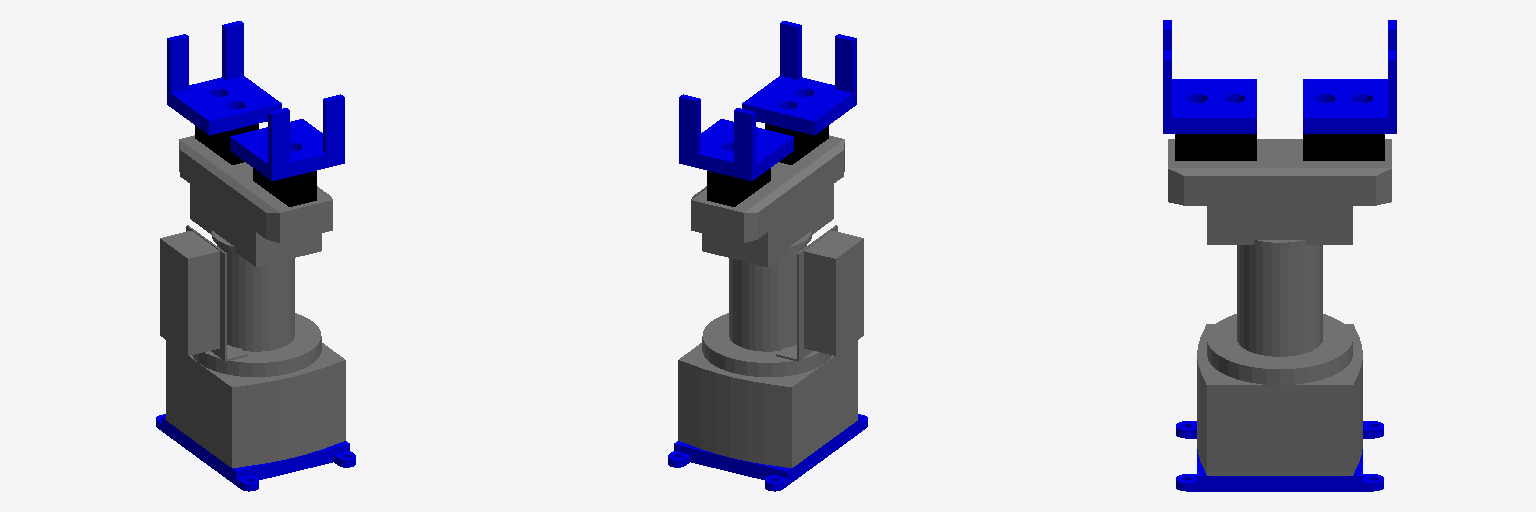
robot.urdf — egn_160:
<?xml version="1.0"?>
<robot name="egn_160">

 <!-- ADAPTER LINK -->
 <link name="adapter_link">
      <inertial>
          <mass value="1.2" />
          <origin xyz="0 0 0" />
      	  <inertia  ixx="1.0" ixy="0.0"  ixz="0.0"  iyy="1.0"  iyz="0.0"  izz="1.0" />
      </inertial>

      <visual>
          <origin xyz="0.0 0.0 0.0" rpy="0.0 0.0 0.0" />
          <geometry>
             <mesh filename="package://schunk_egn160_description/meshes/adapter.stl" scale="0.001 0.001 0.001"/>
          </geometry>
          <material name="blue">
		<color rgba="0 0 1 1"/>
      	  </material>
      </visual>

      <collision>
          <origin xyz="0.0 0.0 0.0" rpy="0.0 0.0 0.0" />
          <geometry>
             <mesh filename="package://schunk_egn160_description/meshes/adapter.stl" scale="0.001 0.001 0.001"/>
         </geometry>
     </collision>
  </link>
  
  <!-- BASE LINK -->
 <link name="base_link">
      <inertial>
          <mass value="1.2" />
          <origin xyz="0 0 0" />
      	  <inertia  ixx="1.0" ixy="0.0"  ixz="0.0"  iyy="1.0"  iyz="0.0"  izz="1.0" />
      </inertial>

      <visual>
          <origin xyz="0.0 0.0 0.0" rpy="0.0 0.0 0.0" />
          <geometry>
             <mesh filename="package://schunk_egn160_description/meshes/base.stl" scale="1 1 1"/>
          </geometry>
          <material name="grey">
		<color rgba="0.5 0.5 0.5 1"/>
      	  </material>
      </visual>

      <collision>
          <origin xyz="0.0 0.0 0.0" rpy="0.0 0.0 0.0" />
          <geometry>
             <mesh filename="package://schunk_egn160_description/meshes/base.stl" scale="1 1 1"/>
         </geometry>
     </collision>
  </link>
  
 <!-- PALM LINK -->
 <link name="palm_link">
      <inertial>
          <mass value="1.2" />
          <origin xyz="0 0 0" />
      	  <inertia  ixx="1.0" ixy="0.0"  ixz="0.0"  iyy="1.0"  iyz="0.0"  izz="1.0" />
      </inertial>

      <visual>
          <origin xyz="0.0 0.0 0.0" rpy="0.0 0.0 0.0" />
          <geometry>
             <mesh filename="package://schunk_egn160_description/meshes/palm.stl" scale="1 1 1"/>
          </geometry>
          <material name="grey">
		<color rgba="0.5 0.5 0.5 1"/>
      	  </material>
      </visual>

      <collision>
          <origin xyz="0.0 0.0 0.0" rpy="0.0 0.0 0.0" />
          <geometry>
             <mesh filename="package://schunk_egn160_description/meshes/palm.stl" scale="1 1 1"/>
         </geometry>
     </collision>
  </link>
  
  <!-- GRIPPER LEFT -->
  <link name="gripper_left">
      <inertial>
          <mass value="0.1" />
          <origin xyz="0 0 0" />
      <inertia ixx="1.0" ixy="0.0" ixz="0.0"
               iyy="1.0" iyz="0.0" 
               izz="1.0" />
      </inertial>

      <visual>
          <origin xyz="0.0 0 0" rpy="0 0 0" />
          <geometry>
             <mesh filename="package://schunk_egn160_description/meshes/gripper.stl" scale="1 1 1"/>
          </geometry>
          <material name="black">
		<color rgba="0 0 0 1"/>
      	  </material>
      </visual>

      <collision>
          <origin xyz="0 0 0" rpy="0 0 0" />
          <geometry>
             <mesh filename="package://schunk_egn160_description/meshes/gripper.stl" scale="1 1 1"/>
         </geometry>
     </collision>
  </link>
  
  <!-- FINGER LEFT -->
  <link name="finger_left">
      <inertial>
          <mass value="0.1" />
          <origin xyz="0 0 0" />
      <inertia ixx="1.0" ixy="0.0" ixz="0.0"
               iyy="1.0" iyz="0.0" 
               izz="1.0" />
      </inertial>

      <visual>
          <origin xyz="0.0 0.0 0.037" rpy="0 0 0" />
          <geometry>
             <mesh filename="package://schunk_egn160_description/meshes/finger.stl" scale="1 1 1"/>
          </geometry>
          <material name="blue">
		<color rgba="0 0 1 1"/>
      	  </material>
      </visual>

      <collision>
          <origin xyz="0.0 0.0 0.037" rpy="0 0 0" />
          <geometry>
             <mesh filename="package://schunk_egn160_description/meshes/finger.stl" scale="1 1 1"/>
         </geometry>
     </collision>
  </link>
  
  <!-- GRIPPER RIGHT -->
  <link name="gripper_right">
      <inertial>
          <mass value="0.1" />
          <origin xyz="0 0 0" />
      <inertia ixx="1.0" ixy="0.0" ixz="0.0"
               iyy="1.0" iyz="0.0" 
               izz="1.0" />
      </inertial>

      <visual>
          <origin xyz="0.0 0.0 0.0" rpy="0 0 0" />
          <geometry>
             <mesh filename="package://schunk_egn160_description/meshes/gripper.stl" scale="1 1 1"/>
          </geometry>
          <material name="black">
		<color rgba="0 0 0 1"/>
      	  </material>
      </visual>

      <collision>
          <origin xyz="0.0 0.0 0.0" rpy="0 0 0" />
          <geometry>
             <mesh filename="package://schunk_egn160_description/meshes/gripper.stl" scale="1 1 1"/>
         </geometry>
     </collision>
  </link>
  
  <!-- FINGER RIGHT -->
  <link name="finger_right">
      <inertial>
          <mass value="0.1" />
          <origin xyz="0 0 0" />
      <inertia ixx="1.0" ixy="0.0" ixz="0.0"
               iyy="1.0" iyz="0.0" 
               izz="1.0" />
      </inertial>

      <visual>
          <origin xyz="0.0 0.0 0.037" rpy="0 0 0" />
          <geometry>
             <mesh filename="package://schunk_egn160_description/meshes/finger.stl" scale="1 1 1"/>
          </geometry>
          <material name="blue">
		<color rgba="0 0 1 1"/>
      	  </material>
      </visual>

      <collision>
          <origin xyz="0.0 0.0 0.037" rpy="0 0 0" />
          <geometry>
             <mesh filename="package://schunk_egn160_description/meshes/finger.stl" scale="1 1 1"/>
         </geometry>
      </collision>
  </link>

  <!-- JOINTS -->
  <joint name="adapter_joint_base" type="fixed">
     <origin xyz="0 0 0.015" rpy="0 0 0" />
     <parent link="adapter_link"/>
     <child link="base_link" />
  </joint>
  
  <joint name="base_joint_palm" type="fixed">
     <origin xyz="0 0 0.21" rpy="0 0 0" />
     <parent link="base_link"/>
     <child link="palm_link" />
  </joint>
  
  <joint name="palm_joint_gripper_left" type="prismatic">
     <limit lower="0" upper="0.016" effort="1.0" velocity="1.0"/>
     <origin xyz="0 -0.0545 0.064" rpy="0 0 3.14159" />      
     <parent link="palm_link"/>
     <child link="gripper_left" />
     <dynamics friction="100" damping="100" />
     <axis xyz="0 1 0"/>
     <limit effort="100" velocity="100"/>
     <mimic joint="palm_joint_gripper_right" multiplier="1.0" offset="0.0"/> 
  </joint>

  <joint name="gripper_joint_finger_left" type="fixed">
     <origin xyz="0 0 0" rpy="0 0 0" />
     <parent link="gripper_left"/>
     <child link="finger_left" />
     <dynamics friction="100" damping="100" />
     <axis xyz="1 0 0"/>
     <limit effort="100" velocity="100"/>
  </joint>
  
  <joint name="palm_joint_gripper_right" type="prismatic">
     <limit lower="0" upper="0.016" effort="1.0" velocity="1.0"/>
     <origin xyz="0 0.0545 0.064" rpy="0 0 0" />
     <parent link="palm_link"/>
     <child link="gripper_right" />
     <axis xyz="0 1 0"/>
     <dynamics friction="100" damping="100" />
     <limit effort="100" velocity="100"/>
  </joint>
  
  <joint name="gripper_joint_finger_right" type="fixed">
     <origin xyz="0 0 0" rpy="0 0 0" />
     <parent link="gripper_right"/>
     <child link="finger_right" />
     <dynamics friction="100" damping="100" />
     <axis xyz="1 0 0"/>
     <limit effort="100" velocity="100"/>
  </joint>

</robot>

--- Render facts (derived) ---
Views: 3 orthographic renders of the robot side by side, from view 1: azimuth 30°, elevation 25°; view 2: azimuth 150°, elevation 25°; view 3: azimuth 270°, elevation 25°.
Model egn_160 with 7 links and 6 joints (2 prismatic, 4 fixed), rooted at adapter_link, posed every joint at zero.
Visible links, largest first — view 1: base_link, palm_link, finger_right, finger_left, adapter_link, gripper_left, gripper_right; view 2: base_link, palm_link, finger_left, finger_right, adapter_link, gripper_right, gripper_left; view 3: base_link, palm_link, finger_left, finger_right, adapter_link, gripper_left, gripper_right.
Link boxes in pixels (box(x1,y1,x2,y2)): base_link: box(160, 215, 345, 467); palm_link: box(179, 135, 332, 261); finger_right: box(167, 21, 281, 135); finger_left: box(230, 94, 344, 180); adapter_link: box(156, 414, 355, 491); gripper_left: box(253, 168, 316, 206); gripper_right: box(195, 124, 258, 164); base_link: box(678, 215, 863, 467); palm_link: box(691, 135, 844, 261); finger_left: box(742, 21, 856, 135); finger_right: box(679, 94, 793, 180); adapter_link: box(668, 414, 867, 491); gripper_right: box(707, 168, 770, 206); gripper_left: box(765, 124, 828, 164); base_link: box(1197, 240, 1362, 475); palm_link: box(1168, 139, 1391, 239); finger_left: box(1163, 20, 1256, 133); finger_right: box(1303, 20, 1396, 133); adapter_link: box(1176, 421, 1383, 491); gripper_left: box(1175, 134, 1256, 160); gripper_right: box(1303, 134, 1384, 160).
Size in the robot's own frame: 0.1525 by 0.199 by 0.396 metres.
Meshes: 5 distinct files referenced, 7 mesh visuals loaded (5 binary STL).